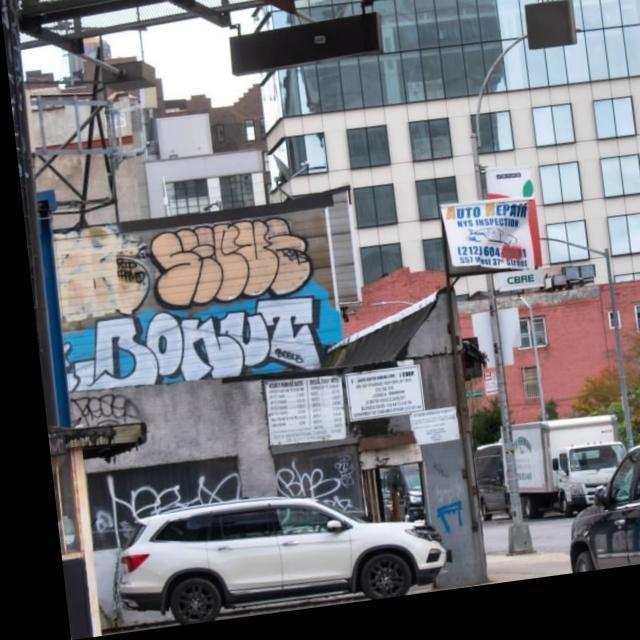-: (54, 298, 329, 396), (141, 216, 309, 316), (50, 566, 73, 640), (107, 253, 138, 294)
